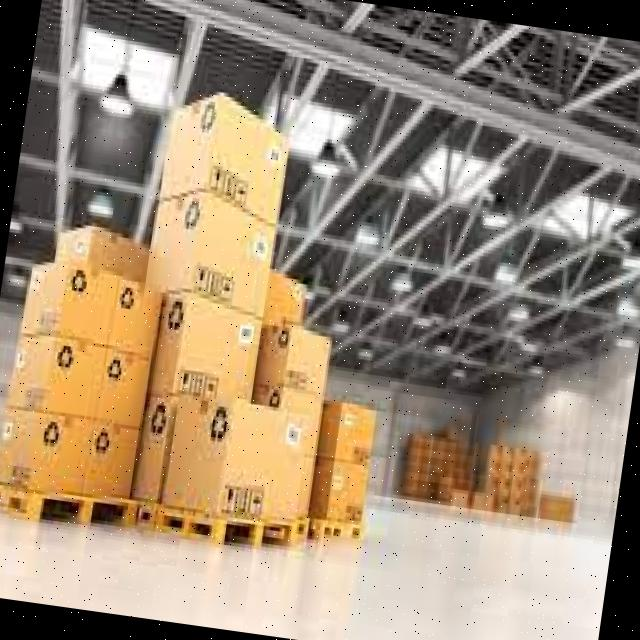Wooden-Pallets: (0, 476, 145, 542), (149, 503, 303, 558)
